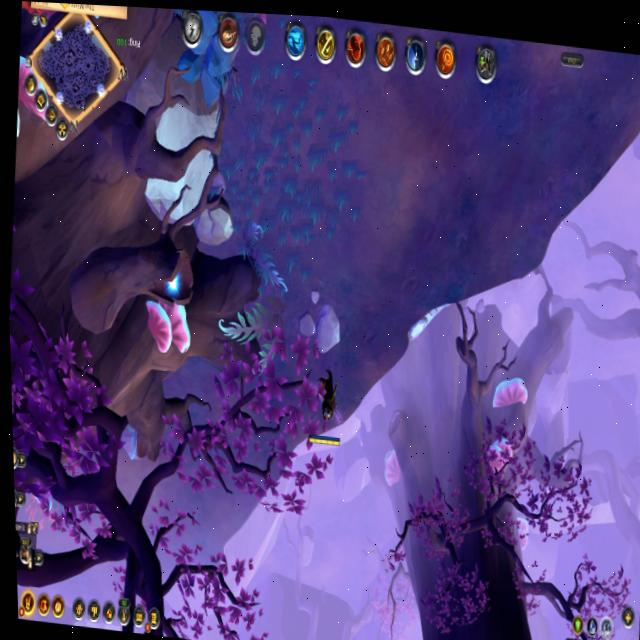red: (304, 361, 352, 457)
